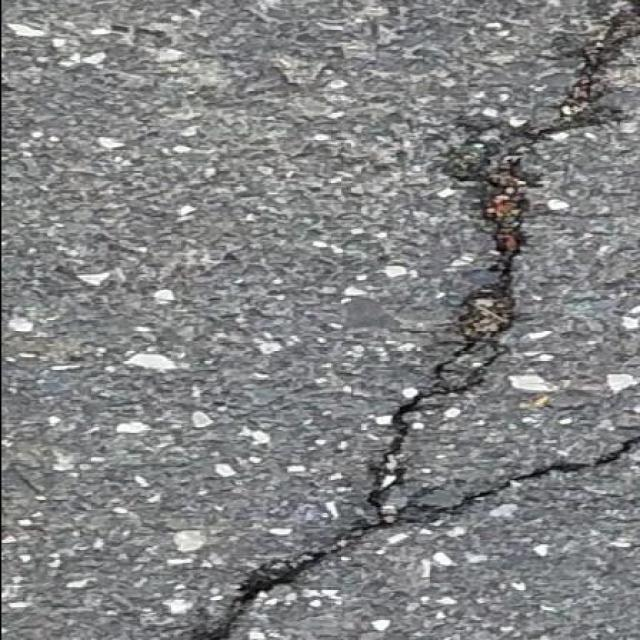Crack: (212, 436, 640, 639), (388, 160, 525, 456), (528, 0, 640, 141)
